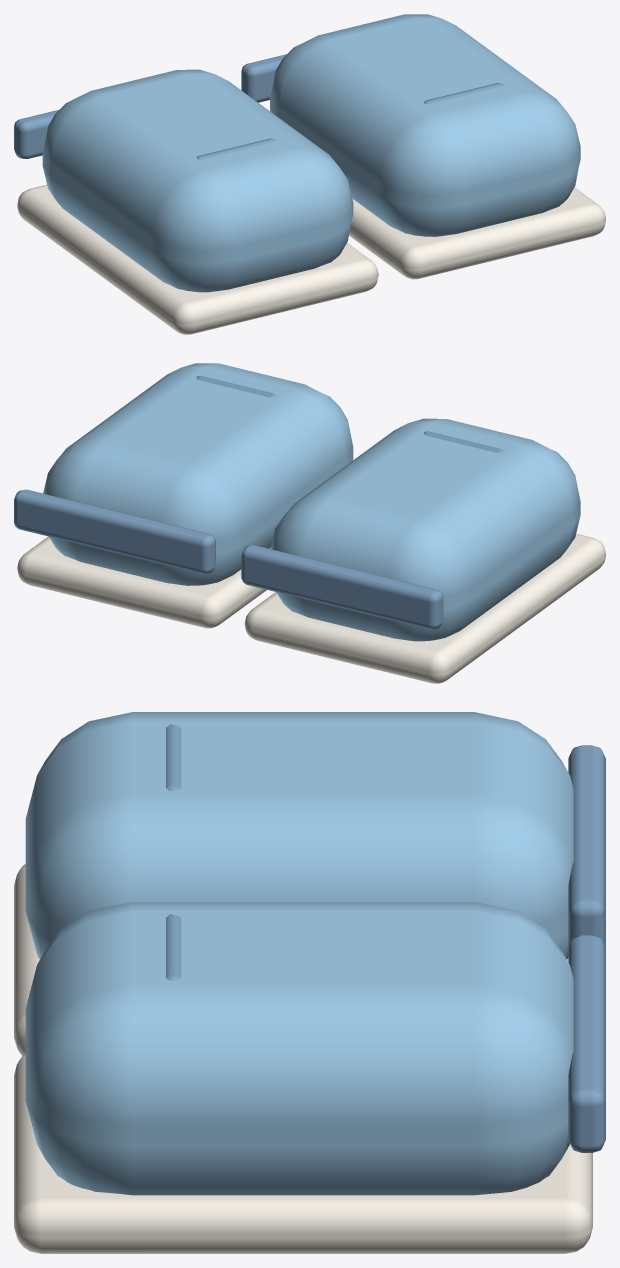
The model's file is kiddie_sneakers.glb.
3 views of the same model, one above another, from view 1: azimuth 30°, elevation 25°; view 2: azimuth 150°, elevation 25°; view 3: azimuth 270°, elevation 25° (orthographic). The views are drawn at different scales.
Visible parts, largest first — view 1: kiddie_sneakers_LegL, kiddie_sneakers_LegR; view 2: kiddie_sneakers_LegL, kiddie_sneakers_LegR; view 3: kiddie_sneakers_LegR, kiddie_sneakers_LegL.
Part boxes in pixels (x1=…): kiddie_sneakers_LegL: x1=14, y1=69, x2=378, y2=334; kiddie_sneakers_LegR: x1=241, y1=14, x2=605, y2=279; kiddie_sneakers_LegL: x1=241, y1=418, x2=605, y2=683; kiddie_sneakers_LegR: x1=14, y1=363, x2=353, y2=628; kiddie_sneakers_LegR: x1=14, y1=902, x2=605, y2=1253; kiddie_sneakers_LegL: x1=14, y1=712, x2=605, y2=1055.
Bounding box in the file's own units: 0.36 × 0.1087 × 0.2505.
